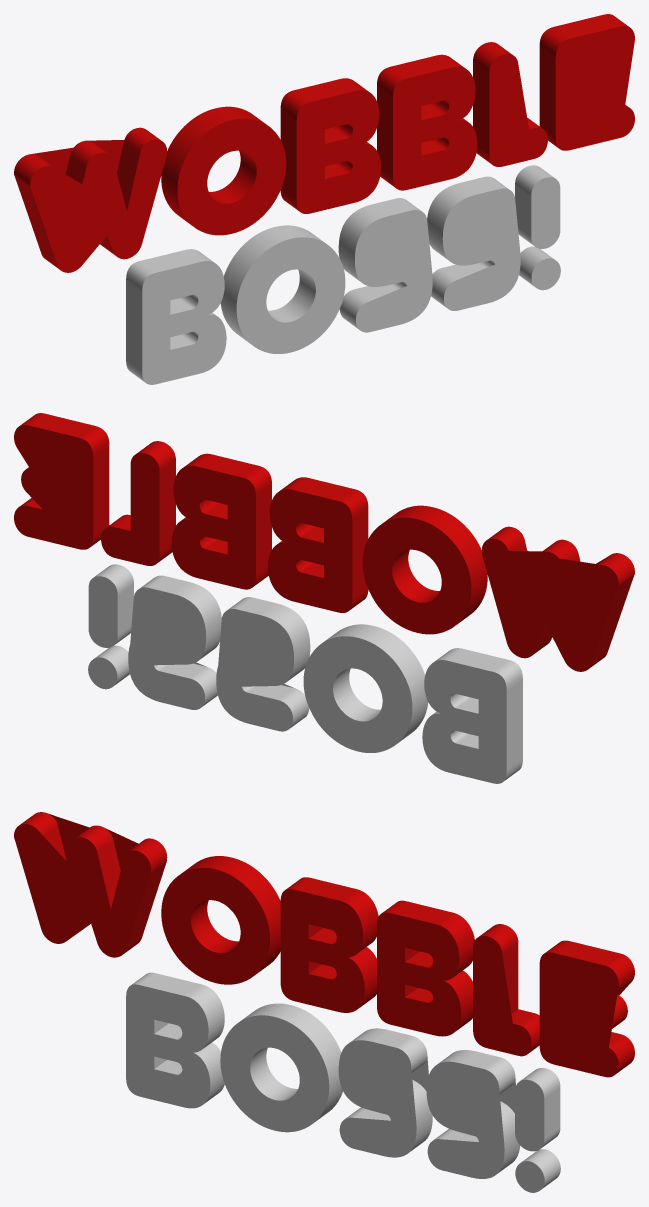
The model's file is Title.fbx.
3 renders of one model, top to bottom at view 1: azimuth 30°, elevation 25°; view 2: azimuth 150°, elevation 25°; view 3: azimuth 330°, elevation 25°, orthographic.
Parts seen in each view (by area): view 1: Null; view 2: Null; view 3: Null.
Part boxes in pixels (x1,y1,x2,y2): Null: (14,14,634,384); Null: (14,413,634,783); Null: (14,812,634,1192).
Bounding box in the file's own units: 799 × 312 × 37.
